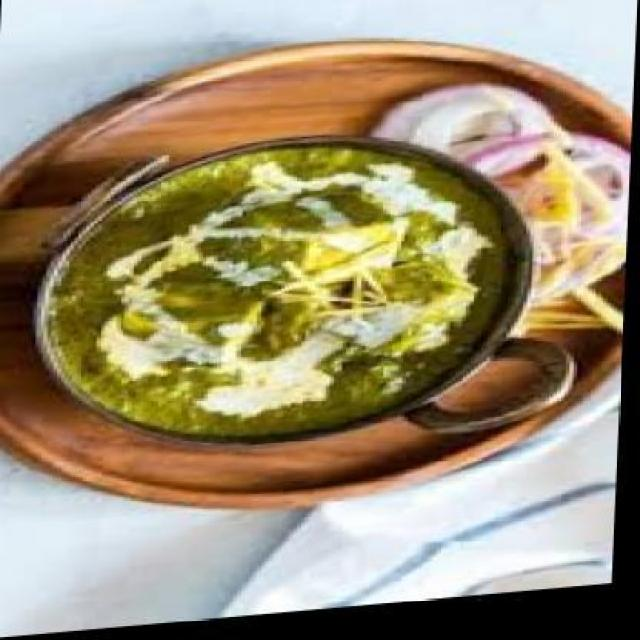palak_paneer: (41, 137, 514, 455)
